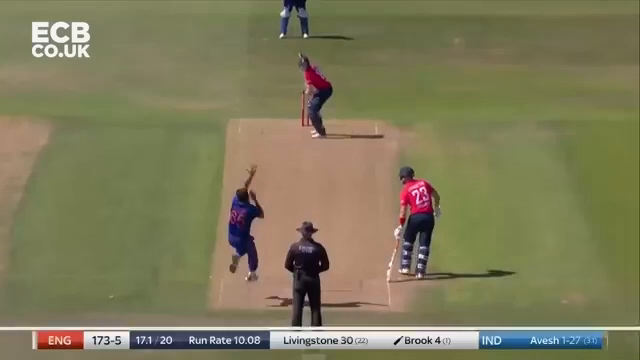Umpire: (285, 220, 330, 328)
batsman: (385, 166, 441, 284), (294, 51, 334, 141)
bowler: (225, 163, 272, 284)
